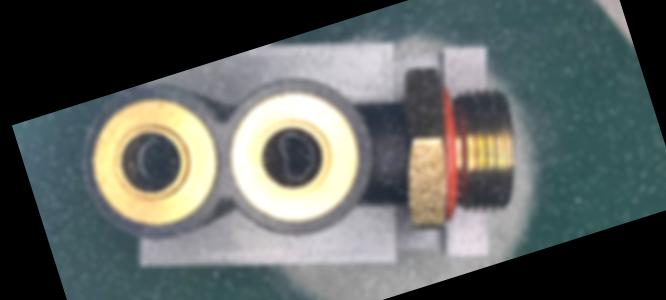off-centered: (265, 120, 328, 193), (125, 127, 186, 194)
